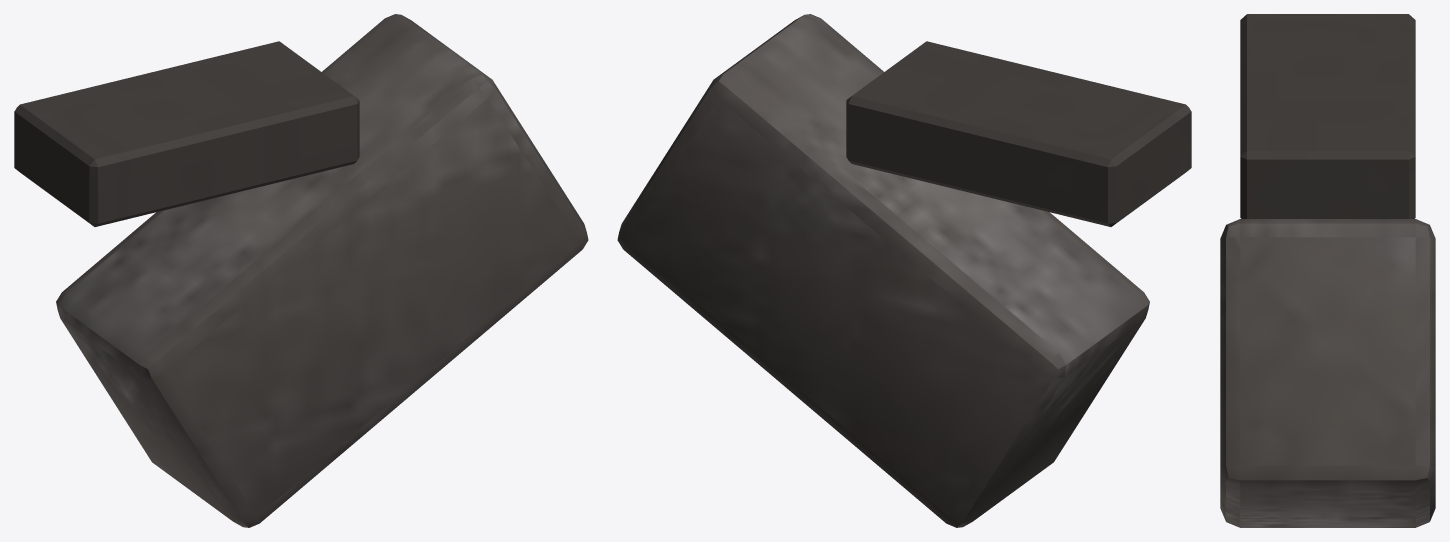
The model's file is lean_grip.glb.
The picture shows the model from 3 angles, left to right: view 1: azimuth 30°, elevation 25°; view 2: azimuth 150°, elevation 25°; view 3: azimuth 270°, elevation 25°; orthographic projection. The views are drawn at different scales.
Visible parts, largest first — view 1: lean_grip; view 2: lean_grip; view 3: lean_grip.
Part boxes in pixels (x1,y1,x2,y2): lean_grip: (14, 14, 588, 527); lean_grip: (617, 14, 1191, 527); lean_grip: (1220, 14, 1435, 527).
Size of the model in its own units: 0.0913 by 0.0709 by 0.032.
Materials: 1 (1 with a texture image).
